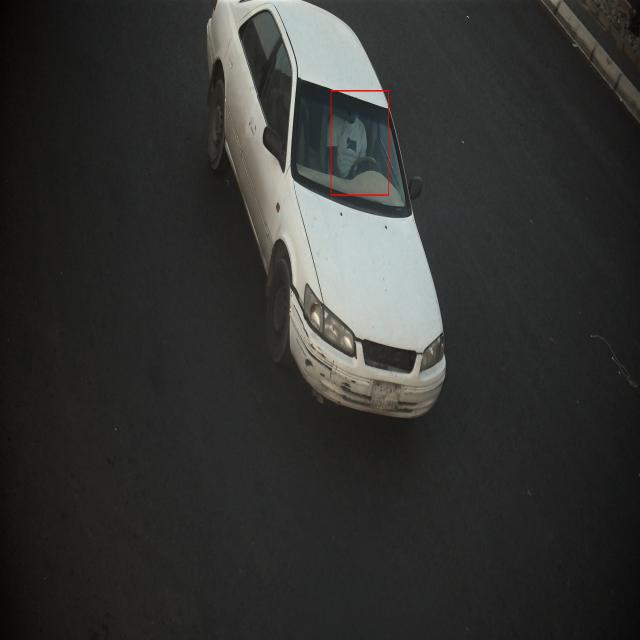windshield: (286, 67, 415, 220)
